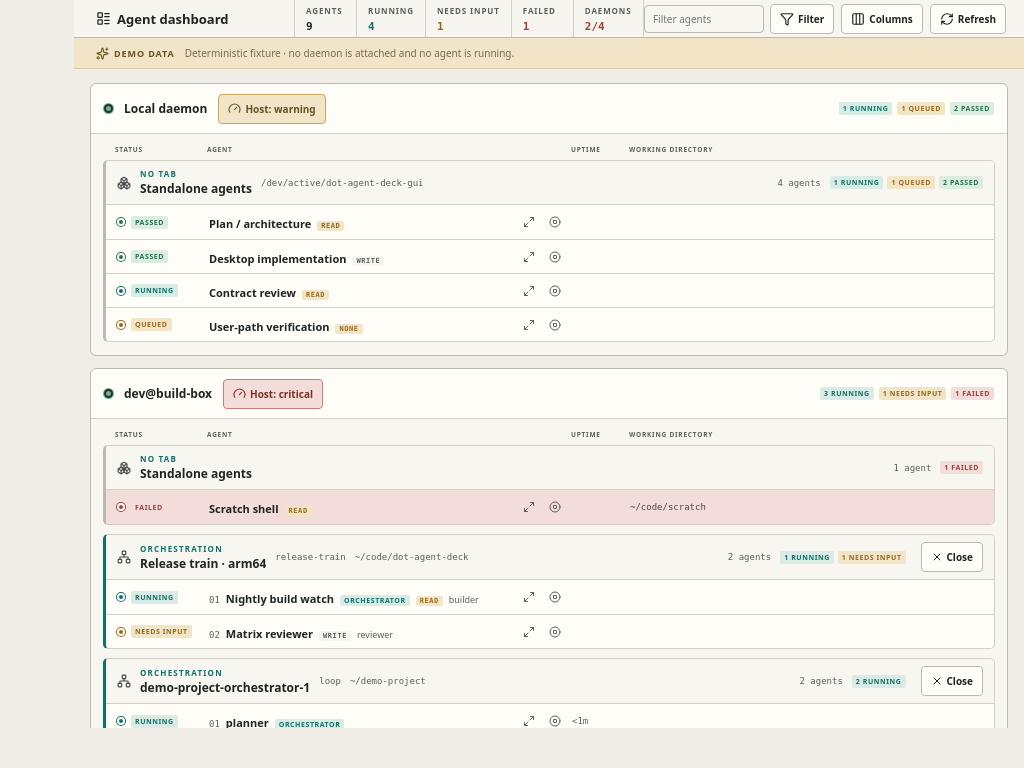
stopping from the overview (PRD #1223 U4) › confirms a stop and sends it to the daemon the agent is on
This screenshot has width=1024, height=768.
Click the button named "Close planner agent" at {"x": 552, "y": 721}, box 542,711 -> 562,731
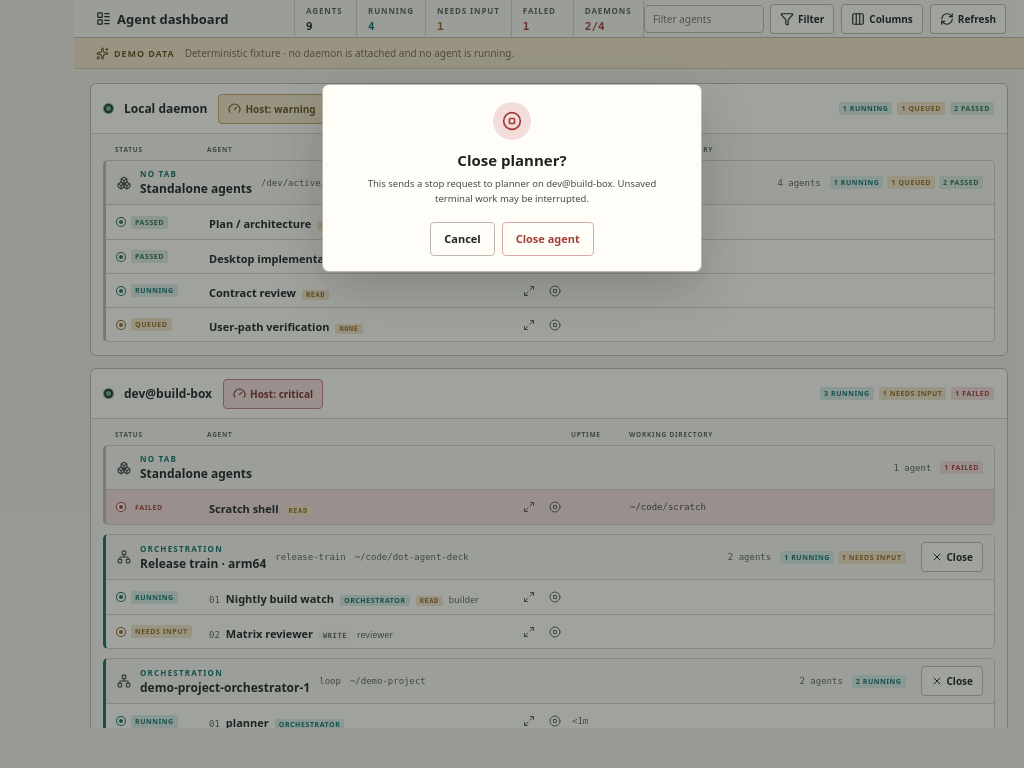
Result: the dialog shows "Close planner?" at 457,150 -> 567,170
Result: the dialog shows "dev@build-box" at 368,178 -> 656,205
Click the button "Cancel" at {"x": 462, "y": 239}, box 430,222 -> 495,256
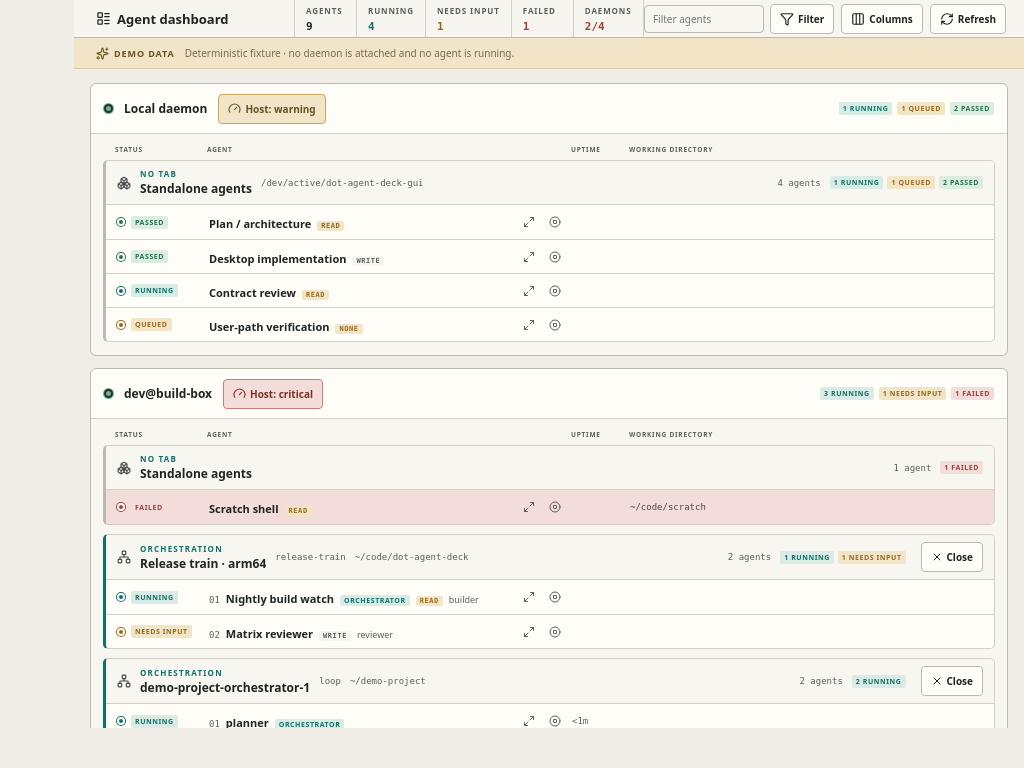
Result: the dialog is gone
Click the button named "Close planner agent" at {"x": 552, "y": 721}, box 542,711 -> 562,731
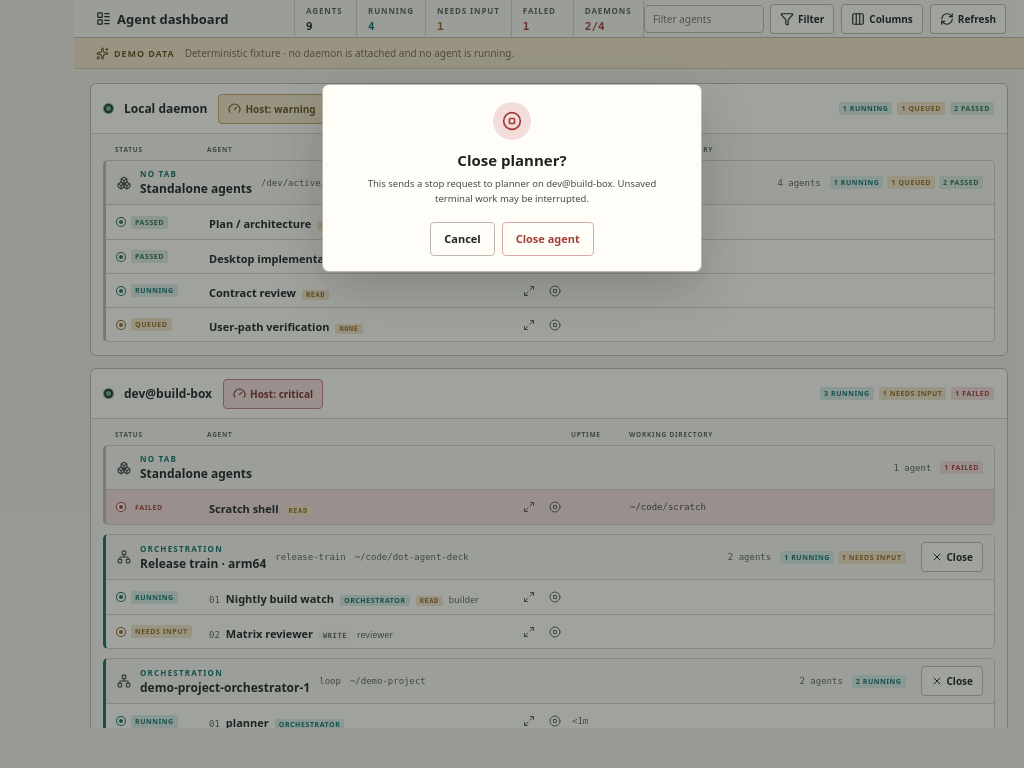
Click the button "Close agent" at {"x": 548, "y": 239}, box 502,222 -> 594,256
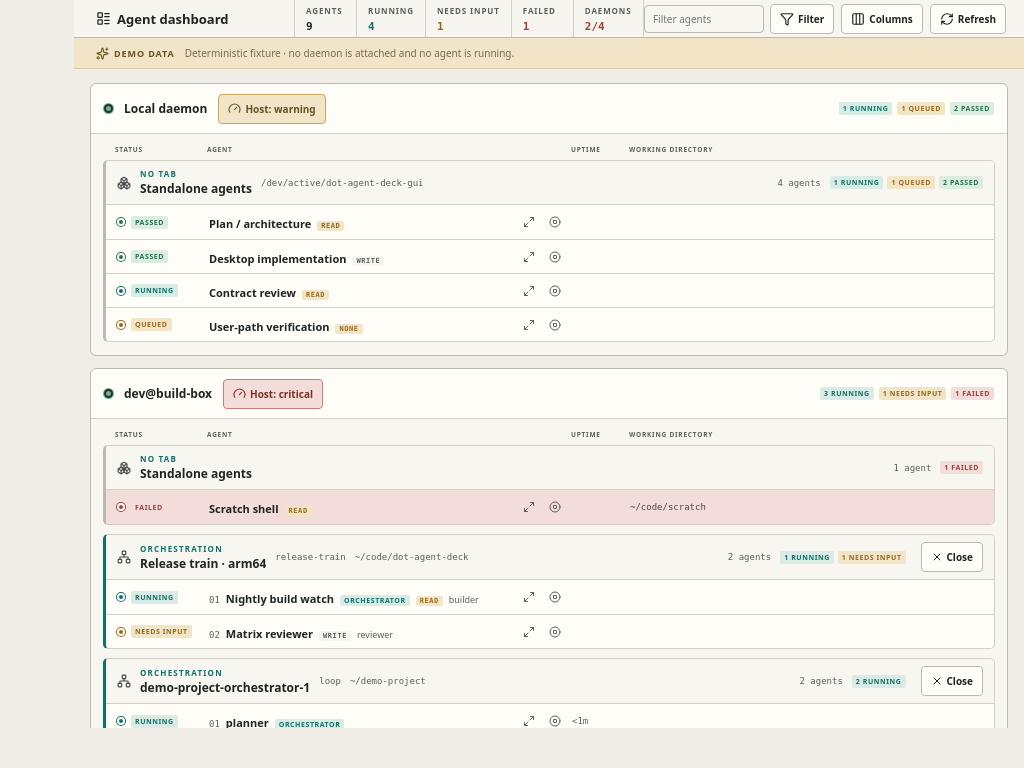
Result: the dialog is gone
